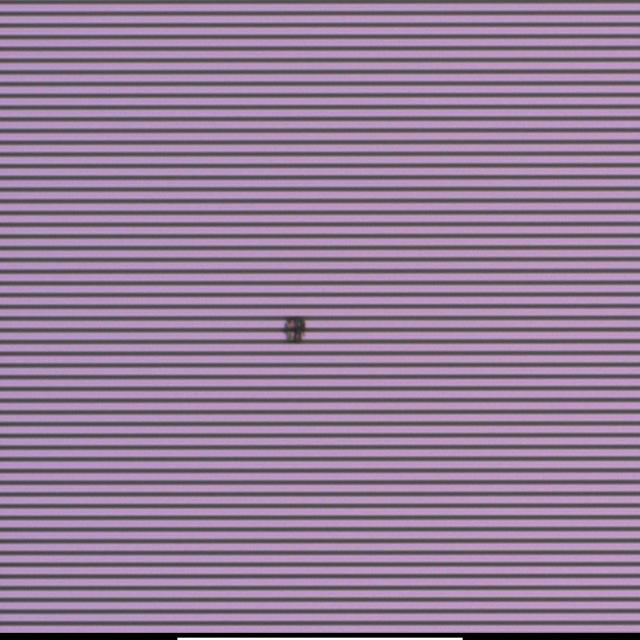03_intrusion: (282, 312, 308, 346)
